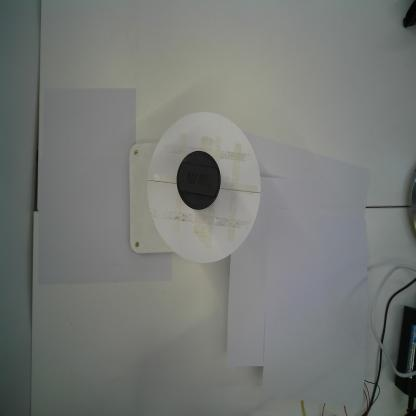Canned Food: (174, 149, 224, 214)
